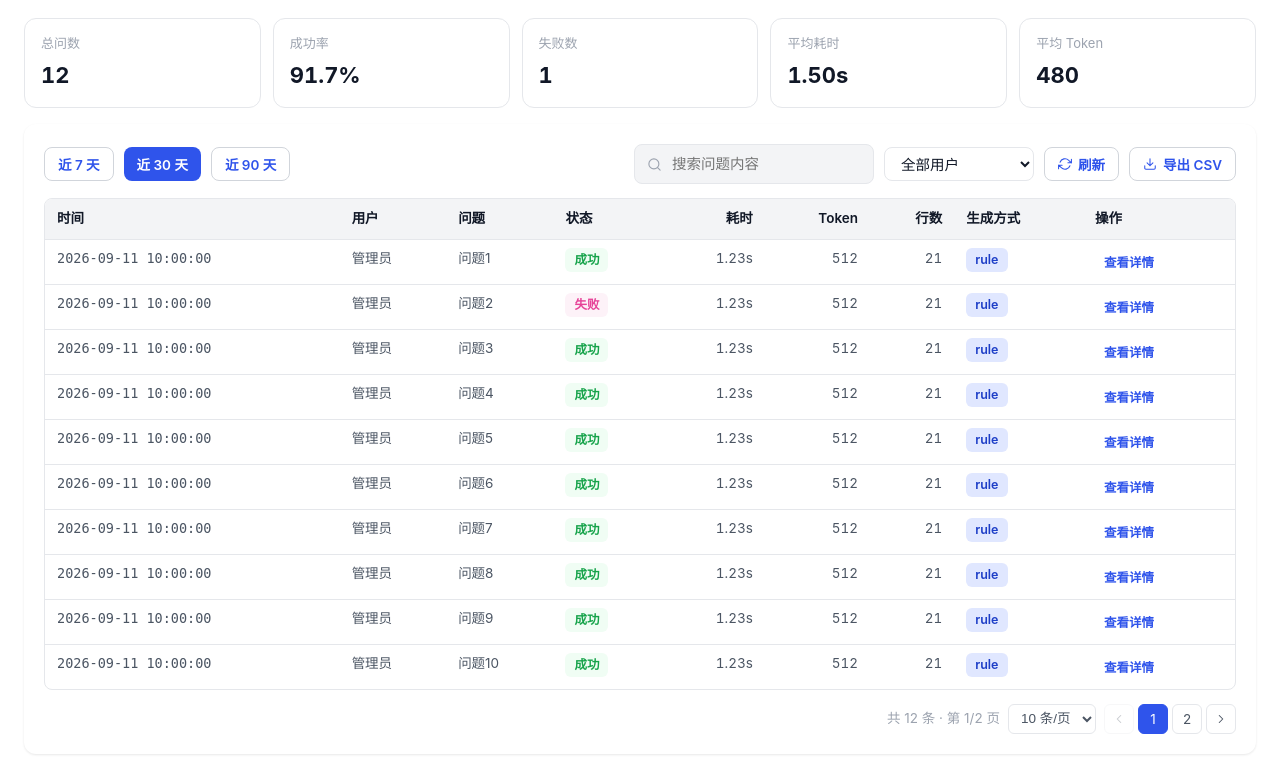
LogsPage — 表格 › 切换每页条数后回到第 1 页
The image size is (1280, 762).
Check: the text "问题1" is shown, box top-left (446, 240), bottom-right (553, 284)
Click the button named "下一页" at x=1221, y=719, box top-left (1206, 704), bottom-right (1236, 734)
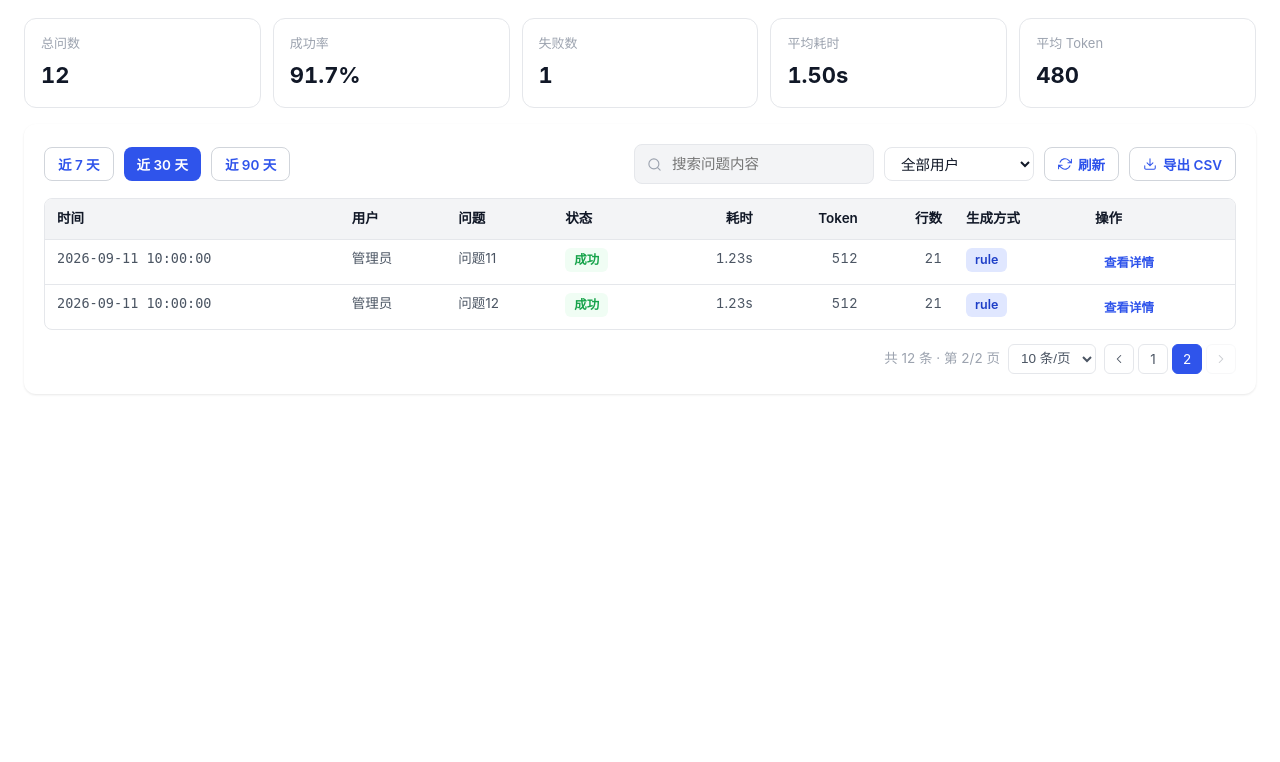
Select "50 条/页" in the dropdown named "每页条数" at x=1052, y=359, box top-left (1008, 344), bottom-right (1096, 374)
(page scrolled)
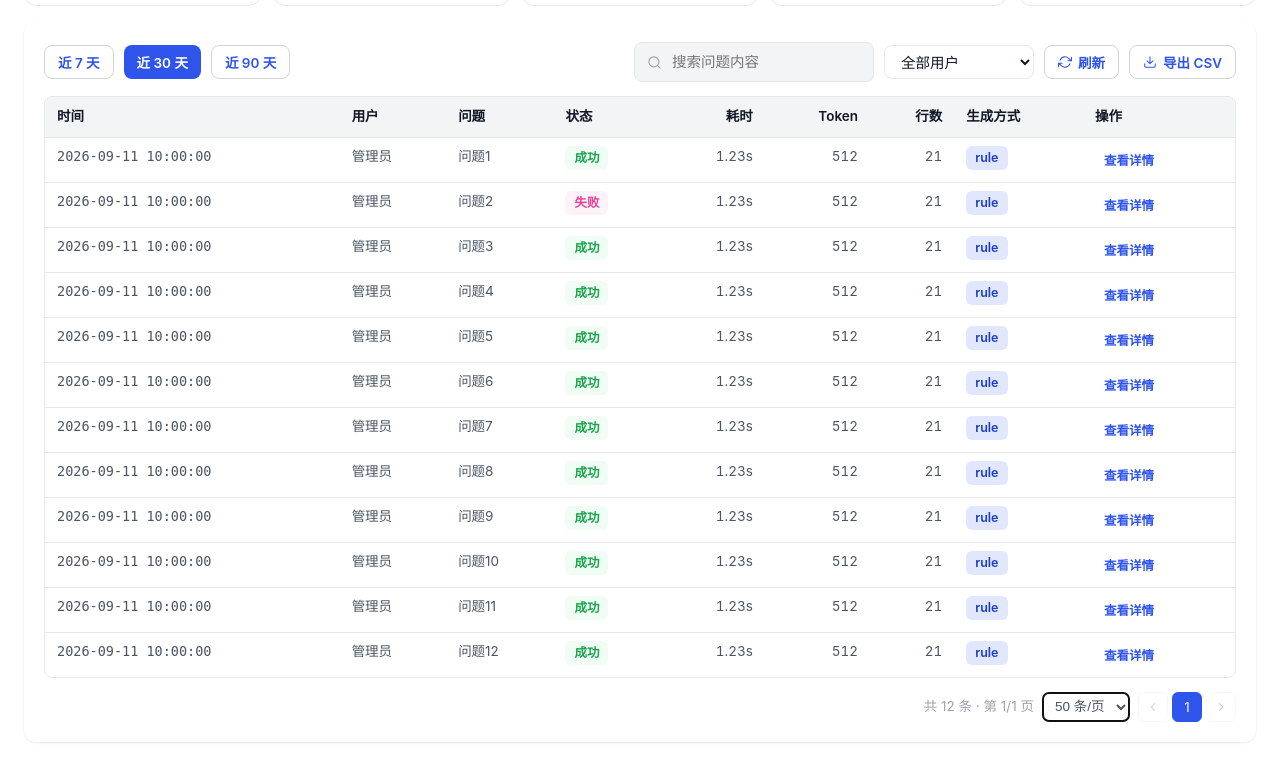
Check: the text "问题12" is shown, box top-left (446, 632), bottom-right (553, 677)
Check: the text "问题1" is shown, box top-left (446, 138), bottom-right (553, 182)
